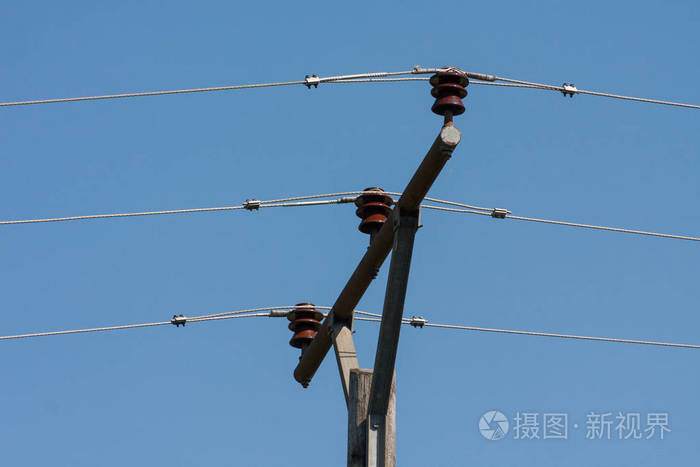insulator: (428, 72, 469, 117), (354, 187, 392, 230), (284, 305, 320, 343)
